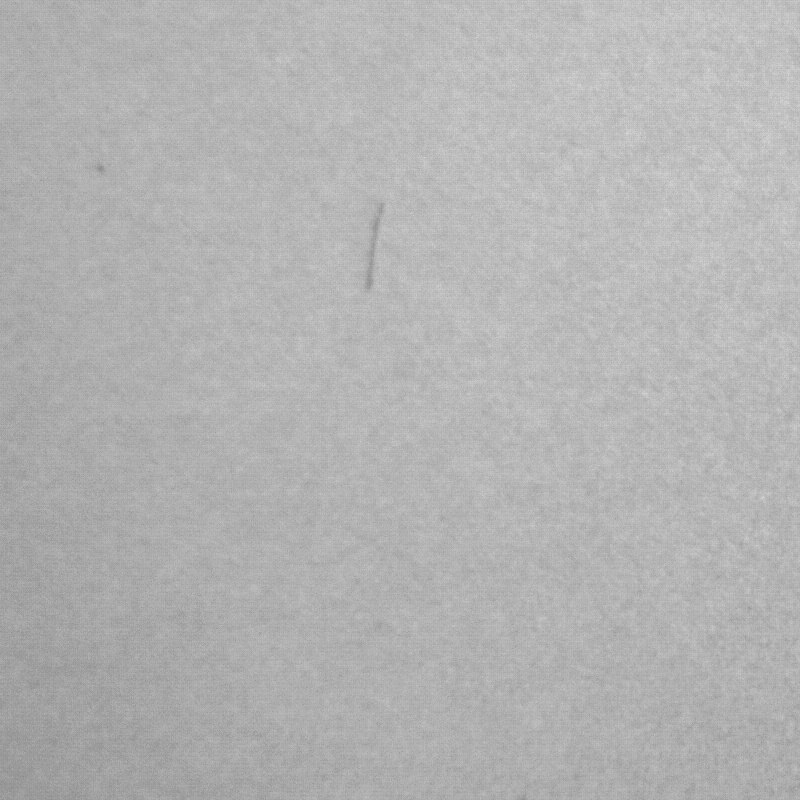defect: (367, 200, 385, 287), (98, 164, 106, 176)
